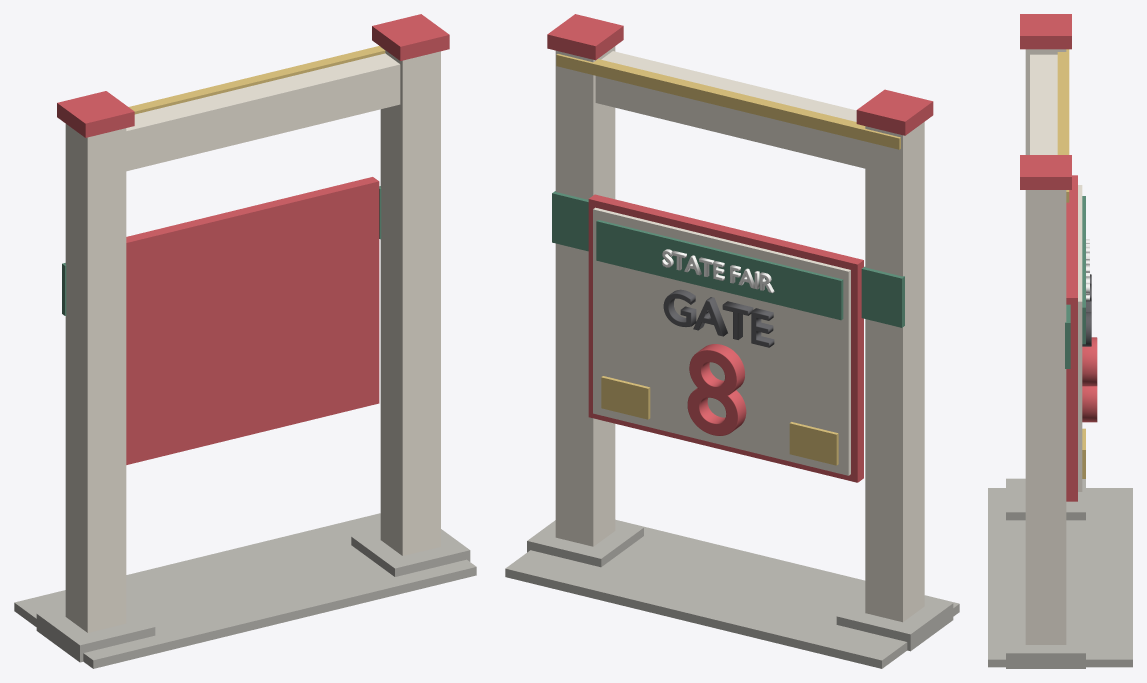
The model's file is state-fair-gate-08.glb.
3 renders of one model, left to right at view 1: azimuth 30°, elevation 25°; view 2: azimuth 150°, elevation 25°; view 3: azimuth 270°, elevation 25°, orthographic. The views are drawn at different scales.
Visible parts, largest first — view 1: SFG_SignBack, SFG_PostL, SFG_PostR, SFG_Pad, SFG_HeaderBeam, SFG_FootingL, SFG_FootingR, SFG_PostCapL, SFG_PostCapR, SFG_HeaderAccent; view 2: SFG_SignFace, SFG_PostL, SFG_Pad, SFG_PostR, SFG_HeaderBeam, SFG_Ribbon, SFG_SignBack, SFG_HeaderAccent, SFG_GateNumber, SFG_FootingL, SFG_GateLabel, SFG_FootingR (+7 smaller); view 3: SFG_PostR, SFG_Pad, SFG_SignBack, SFG_FootingR, SFG_HeaderBeam, SFG_PostCapL, SFG_PostCapR, SFG_SignFace, SFG_HeaderAccent, SFG_FootingL, SFG_GateNumber, SFG_PostL (+4 smaller).
Part boxes in pixels (<box>): SFG_SignBack: <box>126,177,379,464</box>; SFG_PostL: <box>65,124,126,632</box>; SFG_PostR: <box>380,47,440,555</box>; SFG_Pad: <box>14,513,476,668</box>; SFG_HeaderBeam: <box>126,53,400,171</box>; SFG_FootingL: <box>36,606,155,662</box>; SFG_FootingR: <box>351,529,470,576</box>; SFG_PostCapL: <box>57,91,134,137</box>; SFG_PostCapR: <box>372,14,449,60</box>; SFG_HeaderAccent: <box>129,46,385,114</box>; SFG_SignFace: <box>593,207,850,475</box>; SFG_PostL: <box>865,122,924,622</box>; SFG_Pad: <box>505,519,959,668</box>; SFG_PostR: <box>555,46,615,546</box>; SFG_HeaderBeam: <box>595,51,865,168</box>; SFG_Ribbon: <box>596,220,843,320</box>; SFG_SignBack: <box>588,194,863,482</box>; SFG_HeaderAccent: <box>556,54,900,149</box>; SFG_GateNumber: <box>687,344,746,435</box>; SFG_FootingL: <box>836,596,953,651</box>; SFG_GateLabel: <box>663,289,774,347</box>; SFG_FootingR: <box>527,520,643,567</box>; SFG_PostR: <box>1025,190,1066,644</box>; SFG_Pad: <box>988,488,1132,667</box>; SFG_SignBack: <box>1066,175,1077,501</box>; SFG_FootingR: <box>1006,619,1085,668</box>; SFG_HeaderBeam: <box>1030,54,1057,154</box>; SFG_PostCapL: <box>1020,14,1071,49</box>; SFG_PostCapR: <box>1020,155,1071,189</box>; SFG_SignFace: <box>1078,185,1082,491</box>; SFG_HeaderAccent: <box>1057,49,1069,202</box>; SFG_FootingL: <box>1006,478,1085,520</box>; SFG_GateNumber: <box>1082,337,1097,422</box>; SFG_PostL: <box>1025,49,1066,154</box>.
Bounding box in the file's own units: 2.85 × 3.7 × 1.
